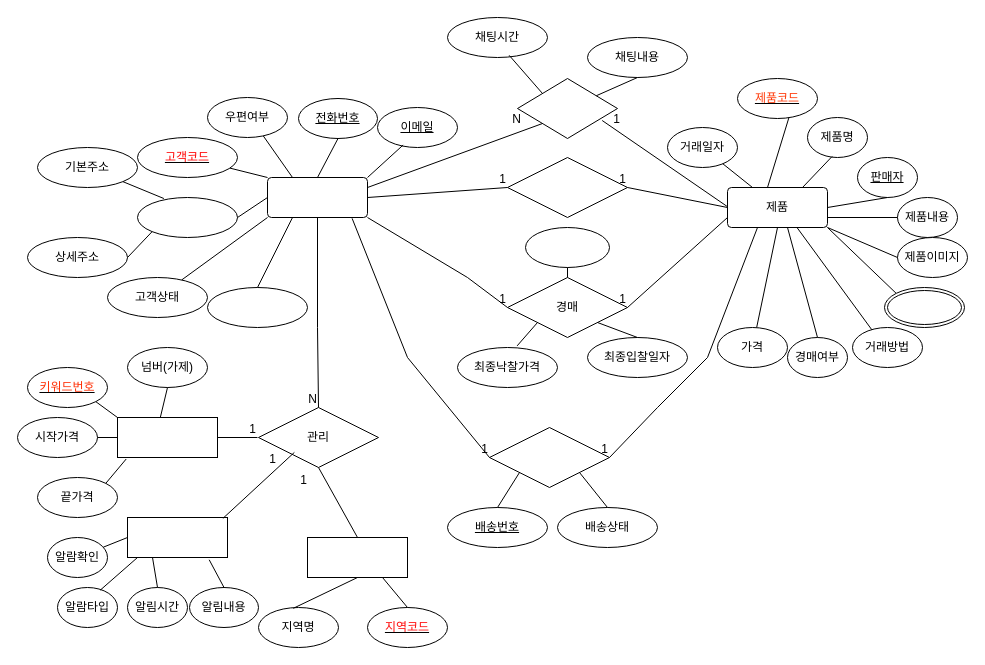
The diagram is 985 pixels wide and 665 high, and some of its shapes have lost their labels. Here are the shapes that lost their labels. From the top down, the centre of each, then its label:
pixel 567 108: 채팅
pixel 317 197: 고객
pixel 567 187: 제품관리
pixel 187 217: 주소
pixel 567 247: 경매번호
pixel 257 307: 고객명
pixel 924 307: 제품구분
pixel 167 437: 키워드
pixel 549 457: 배송
pixel 177 537: 알림
pixel 357 557: 지역
